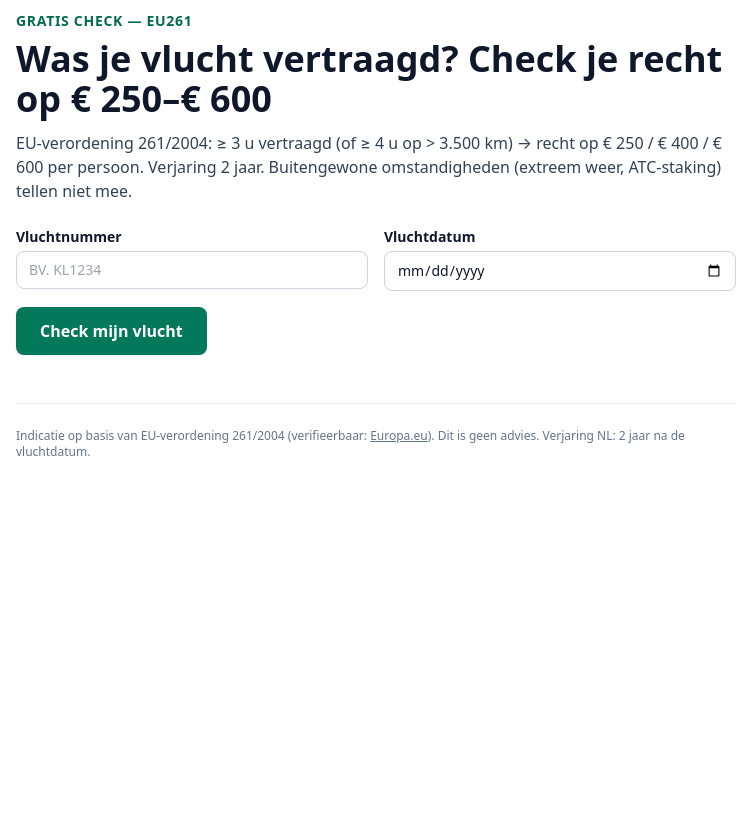
Test: VluchtclaimClient › toont een eligible resultaat met een 'Start claim'-CTA bij een found-respons
In the field with test id "vluchtclaim-flightnumber": (192, 270) [16, 251, 368, 289], type "KL643"
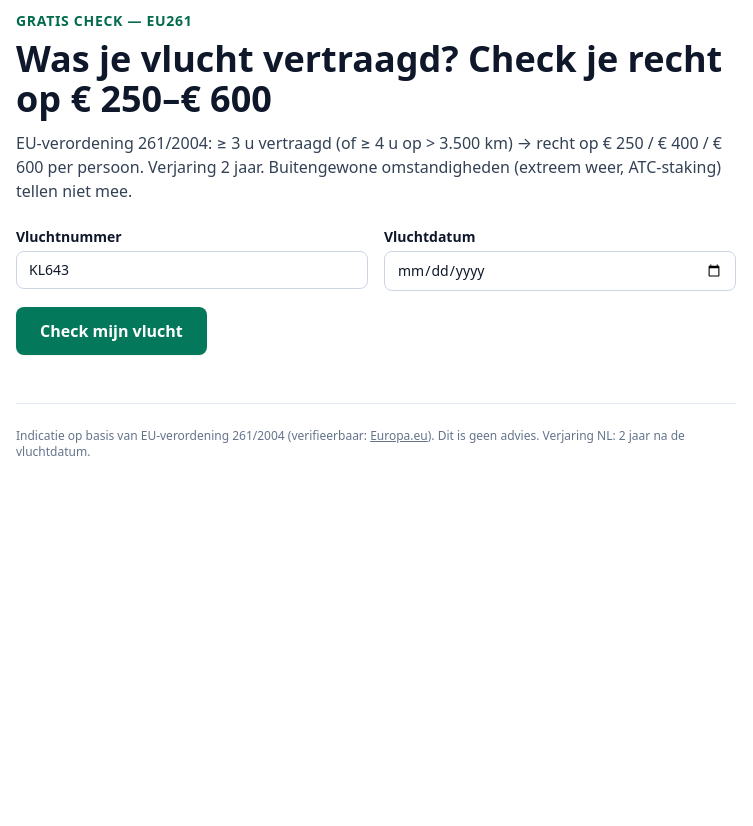
In the date field with test id "vluchtclaim-date": (560, 271) [384, 251, 736, 291], type "2026-04-12"
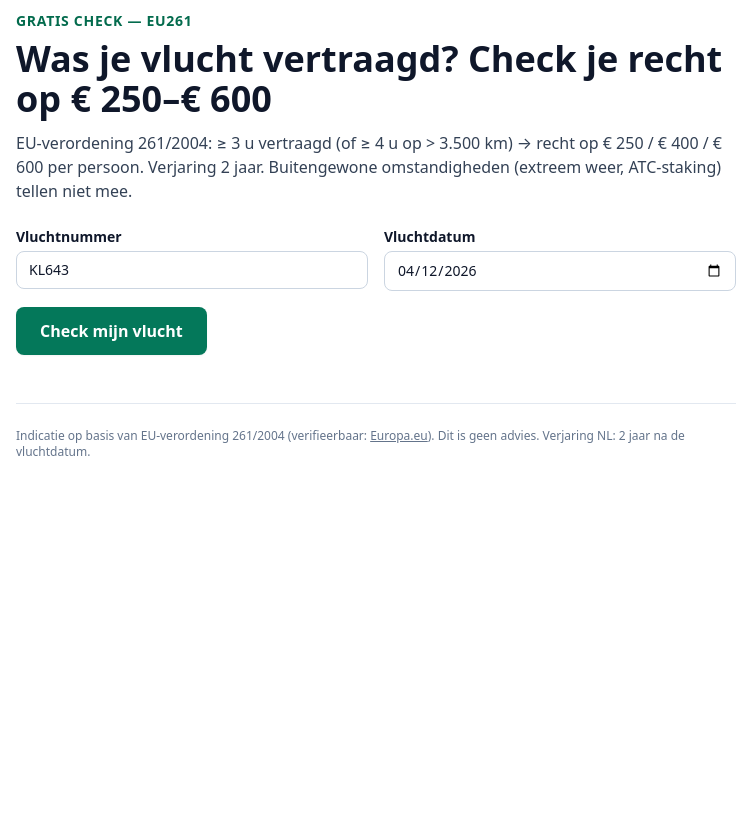
Click the button with test id "vluchtclaim-submit": (111, 331) [16, 307, 207, 355]
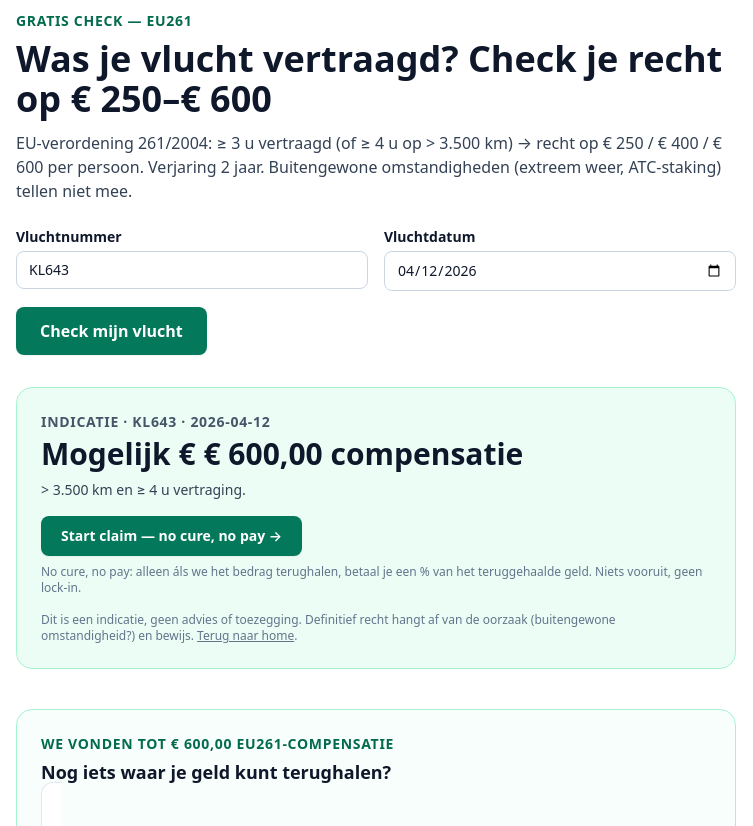
Now the element with test id "vluchtclaim-result" shows "Mogelijk €", box [41, 433, 523, 474]
Now the element with test id "vluchtclaim-result" shows "600", box [41, 433, 523, 474]
